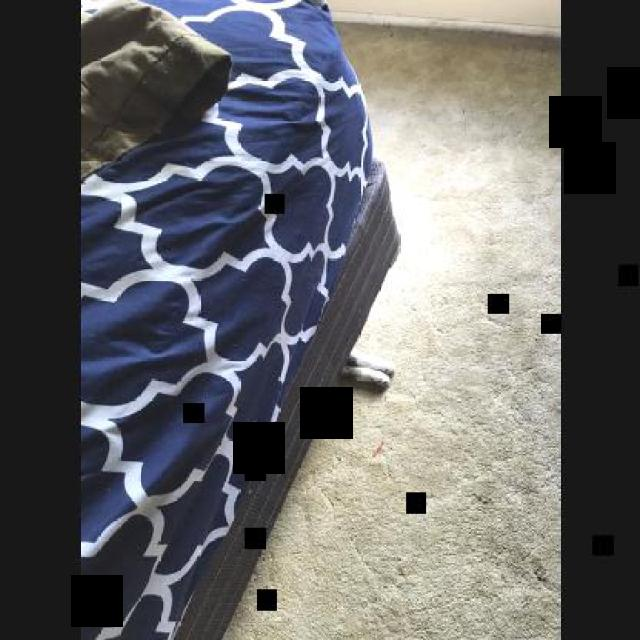unauthorized: (76, 0, 398, 638)
